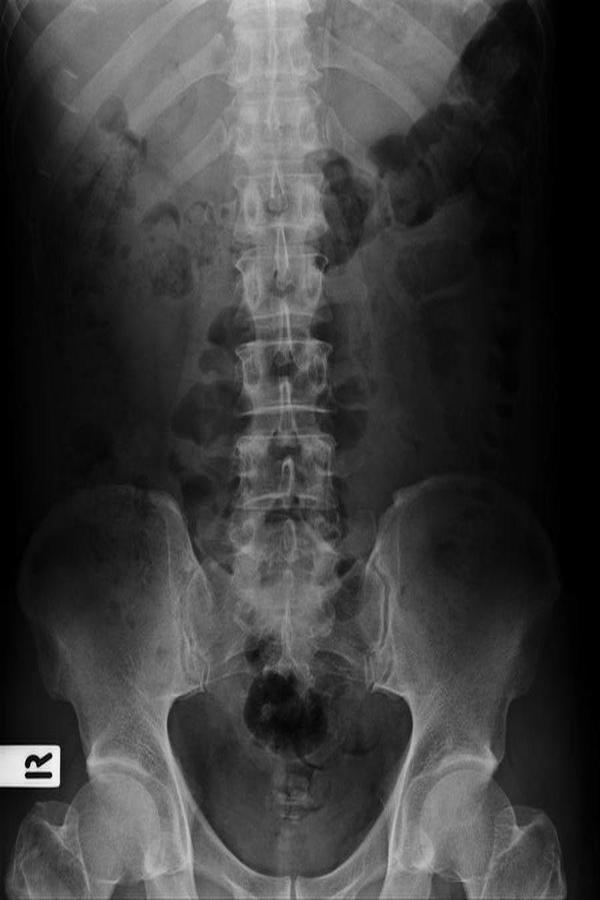lumbar scoliosis: (214, 4, 347, 648)
